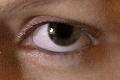eye: (48, 24, 80, 46)
